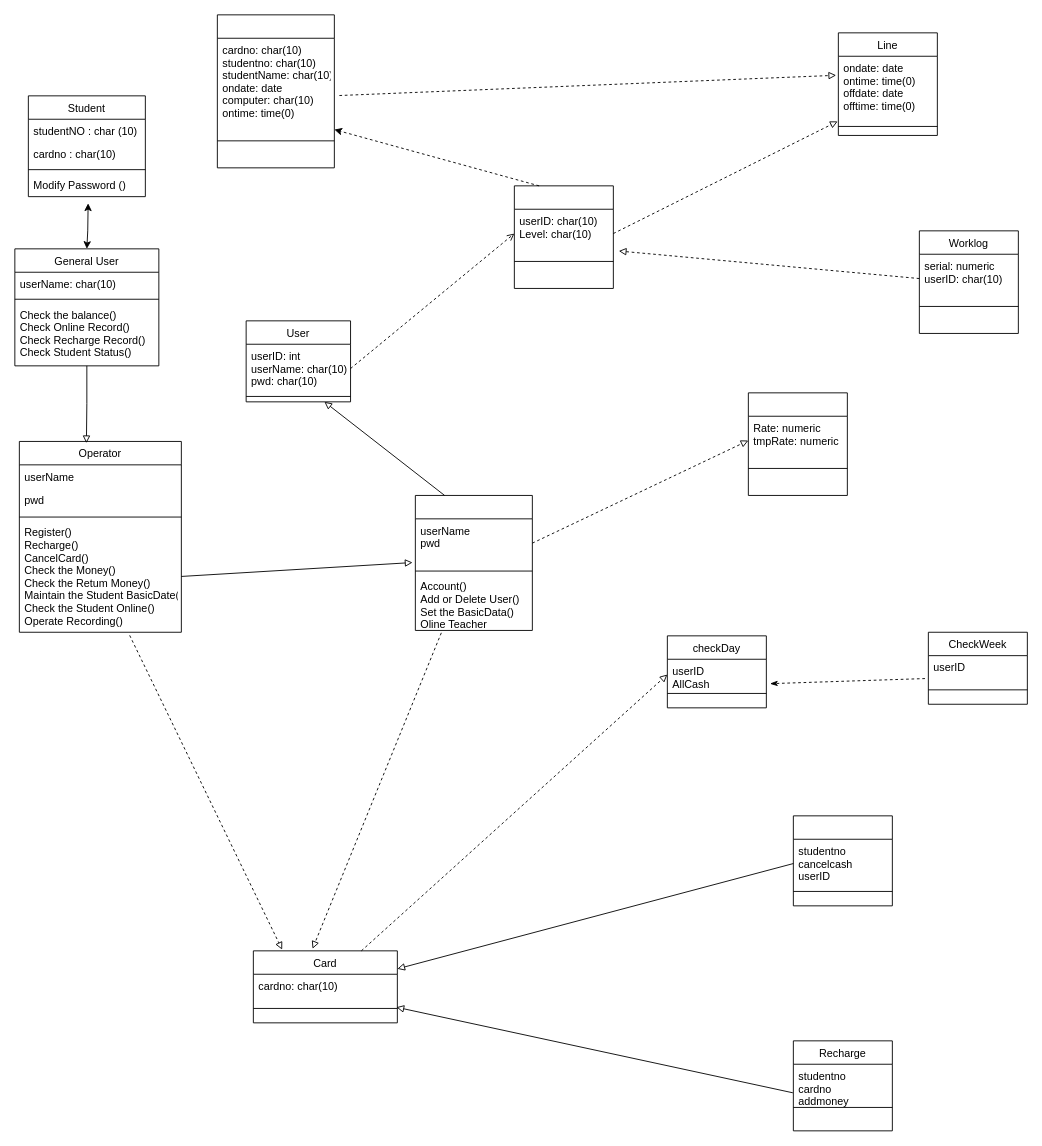
Image size: 1042x1146. Some labels were removed from this diagram. Each missing label, with the box of its shape:
Admin User: (414, 495, 532, 630)
BasicData: (747, 392, 847, 495)
CancelCard: (792, 815, 892, 906)
Online: (216, 14, 334, 168)
Onwork: (513, 185, 613, 288)
